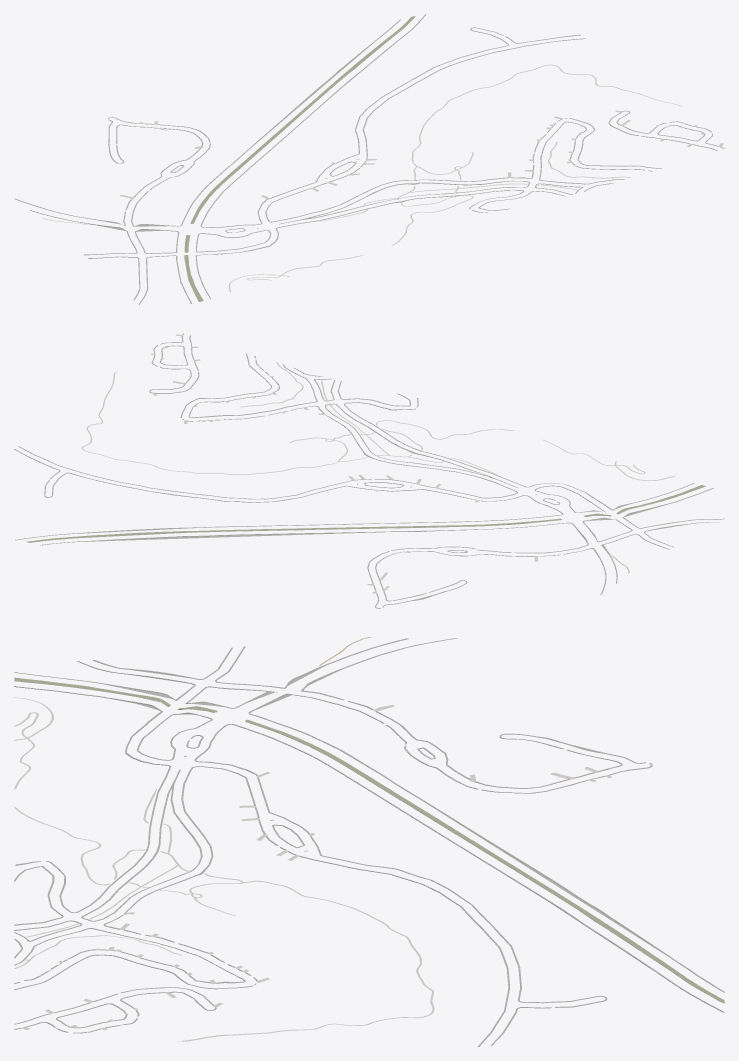
File: ground_r6_c1.glb
3 views of the same model, one above another, from view 1: azimuth 30°, elevation 25°; view 2: azimuth 150°, elevation 25°; view 3: azimuth 270°, elevation 25° (orthographic). The views are drawn at different scales.
Visible parts, largest first — view 1: sidewalks, paths, medians, driveways; view 2: sidewalks, paths, medians, driveways; view 3: sidewalks, paths, medians, driveways.
Boxes of the visible parts, left/top/right/bottom form: sidewalks: left=14, top=14, right=724, bottom=304; paths: left=42, top=64, right=682, bottom=291; medians: left=184, top=16, right=415, bottom=301; driveways: left=120, top=110, right=723, bottom=199; sidewalks: left=14, top=333, right=724, bottom=608; paths: left=82, top=362, right=674, bottom=573; medians: left=26, top=485, right=705, bottom=542; driveways: left=151, top=334, right=537, bottom=593; sidewalks: left=14, top=638, right=724, bottom=1046; paths: left=14, top=637, right=434, bottom=1041; medians: left=14, top=677, right=724, bottom=1003; driveways: left=20, top=704, right=611, bottom=1032.
Size of the model in its own units: 1126 by 64.71 by 788.
